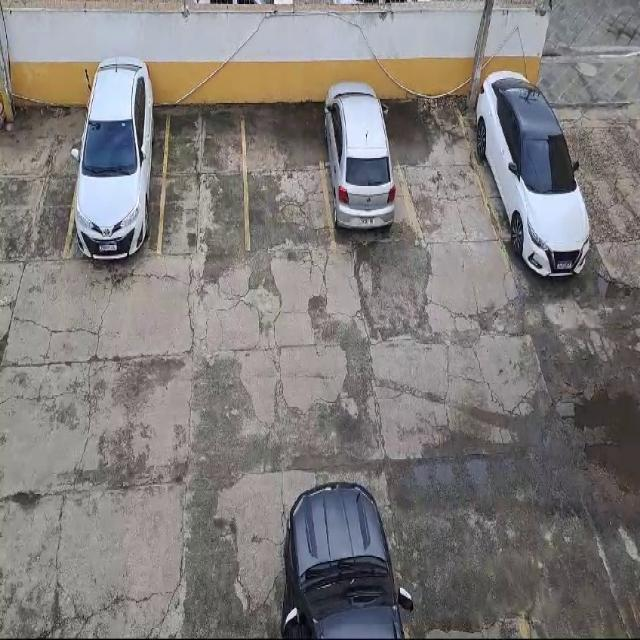empty: (383, 96, 502, 248), (244, 103, 335, 253), (159, 108, 248, 254)
notEmpty: (455, 90, 592, 256), (64, 98, 168, 265), (312, 92, 419, 248)
